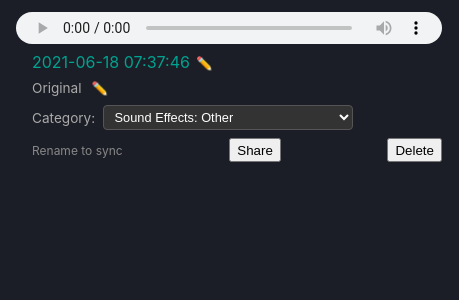
Recording component › Inline description editing › Cancel button reverts to display mode without saving
Click the button named "click to edit description". click: x=100, y=88
box: [86,80,114,97]
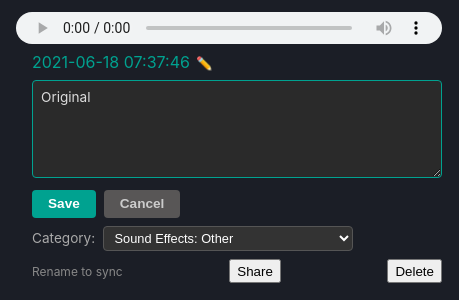
Replace the text in the text box with "Changed text". click: x=237, y=129
box: [32,80,442,178]
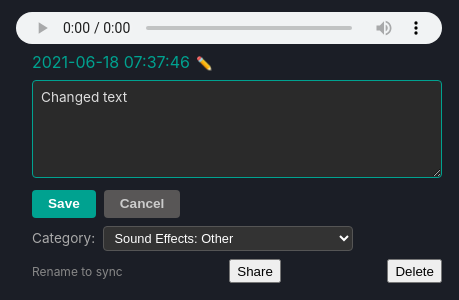
Click the button "Cancel". click: x=142, y=204
box: [104,190,180,218]
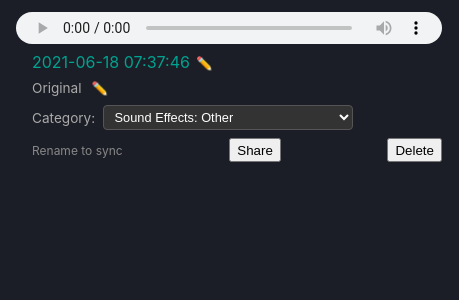
Expected: the text "Original" is shown, [32,80,82,96]
